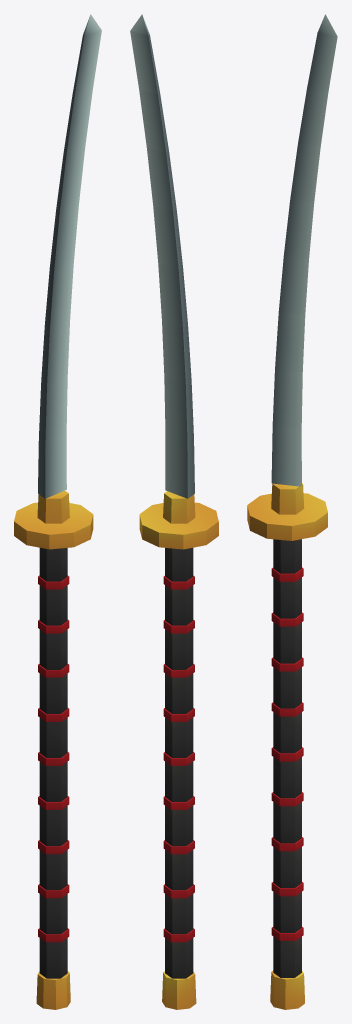
File: nagamaki.fbx
3 renders of one model, left to right at view 1: azimuth 30°, elevation 25°; view 2: azimuth 150°, elevation 25°; view 3: azimuth 330°, elevation 25°, orthographic.
Visible parts, largest first — view 1: nagamaki; view 2: nagamaki; view 3: nagamaki.
Part boxes in pixels (x1,y1,x2,y2): nagamaki: (14,14,101,1009); nagamaki: (130,14,218,1009); nagamaki: (247,14,337,1009).
Size of the model in its own units: 17.53 by 200 by 15.
